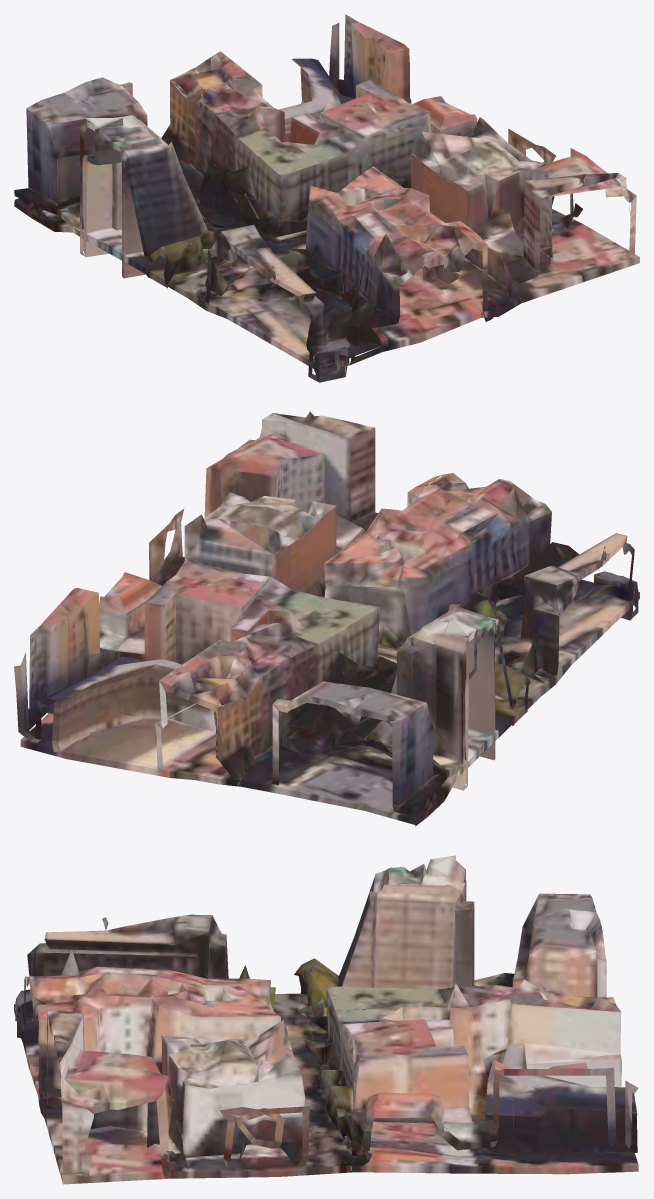
3 renders of one model, top to bottom at view 1: azimuth 30°, elevation 25°; view 2: azimuth 150°, elevation 25°; view 3: azimuth 270°, elevation 25°, orthographic. The views are drawn at different scales.
Visible parts, largest first — view 1: Mesh_0; view 2: Mesh_0; view 3: Mesh_0.
Part boxes in pixels (bbox=[...]): Mesh_0: bbox=[14, 14, 639, 382]; Mesh_0: bbox=[14, 411, 639, 826]; Mesh_0: bbox=[14, 855, 638, 1184].
Size of the model in its own units: 133 by 46.12 by 165.
Materials: 1 (1 with a texture image).
